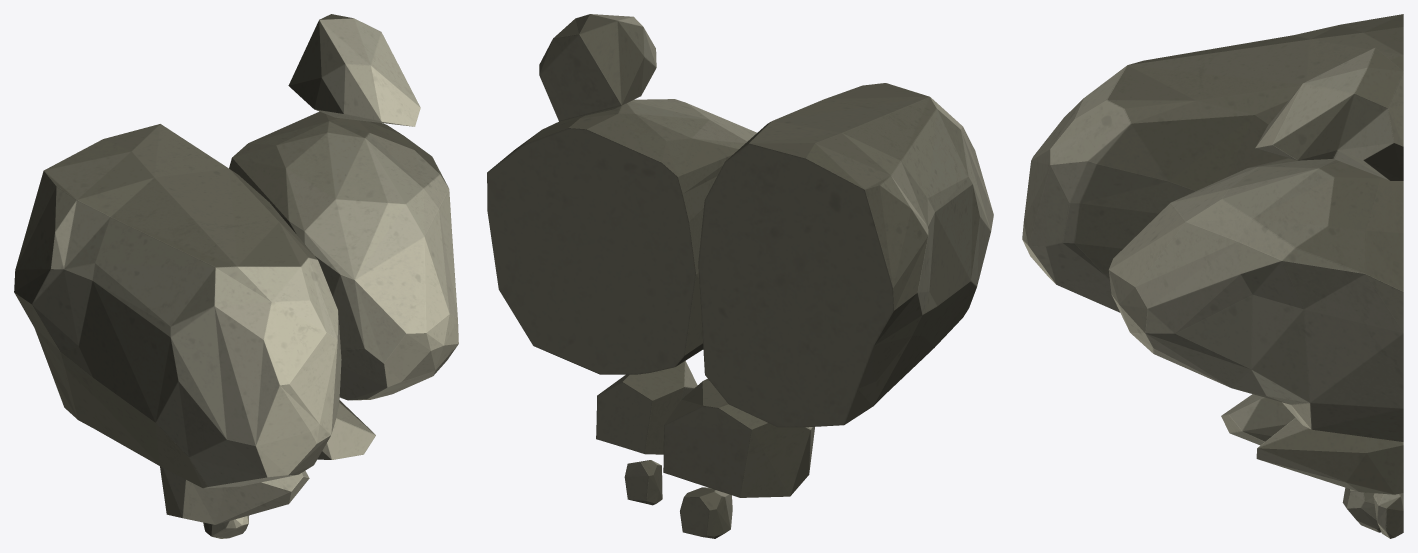
Rendered from Minerals.obj.
The picture shows the model from 3 angles, left to right: view 1: azimuth 30°, elevation 25°; view 2: azimuth 150°, elevation 25°; view 3: azimuth 270°, elevation 25°; orthographic projection. The views are drawn at different scales.
Visible parts, largest first — view 1: Object.2, Object.1, Object.7, Object.4, Object.6, Object.3; view 2: Object.2, Object.1, Object.4, Object.7, Object.6, Object.3, Object.5; view 3: Object.1, Object.2, Object.7, Object.6, Object.4, Object.5, Object.3.
Boxes of the visible parts, x1,y1,x2,y2 form: Object.2: [14, 124, 341, 488]; Object.1: [229, 111, 458, 400]; Object.7: [288, 14, 420, 126]; Object.4: [160, 466, 309, 524]; Object.6: [317, 400, 375, 459]; Object.3: [203, 515, 249, 538]; Object.2: [698, 83, 993, 427]; Object.1: [487, 99, 756, 374]; Object.4: [663, 379, 814, 497]; Object.7: [539, 14, 656, 121]; Object.6: [596, 361, 697, 454]; Object.3: [680, 487, 732, 538]; Object.5: [624, 460, 662, 505]; Object.1: [1108, 158, 1403, 441]; Object.2: [1022, 14, 1403, 312]; Object.7: [1255, 47, 1403, 180]; Object.6: [1256, 417, 1403, 494]; Object.4: [1221, 394, 1295, 445]; Object.5: [1373, 493, 1403, 538]; Object.3: [1342, 487, 1380, 532].
Size of the model in its own units: 40 by 45.85 by 30.04.
1 material, 1 textured.
